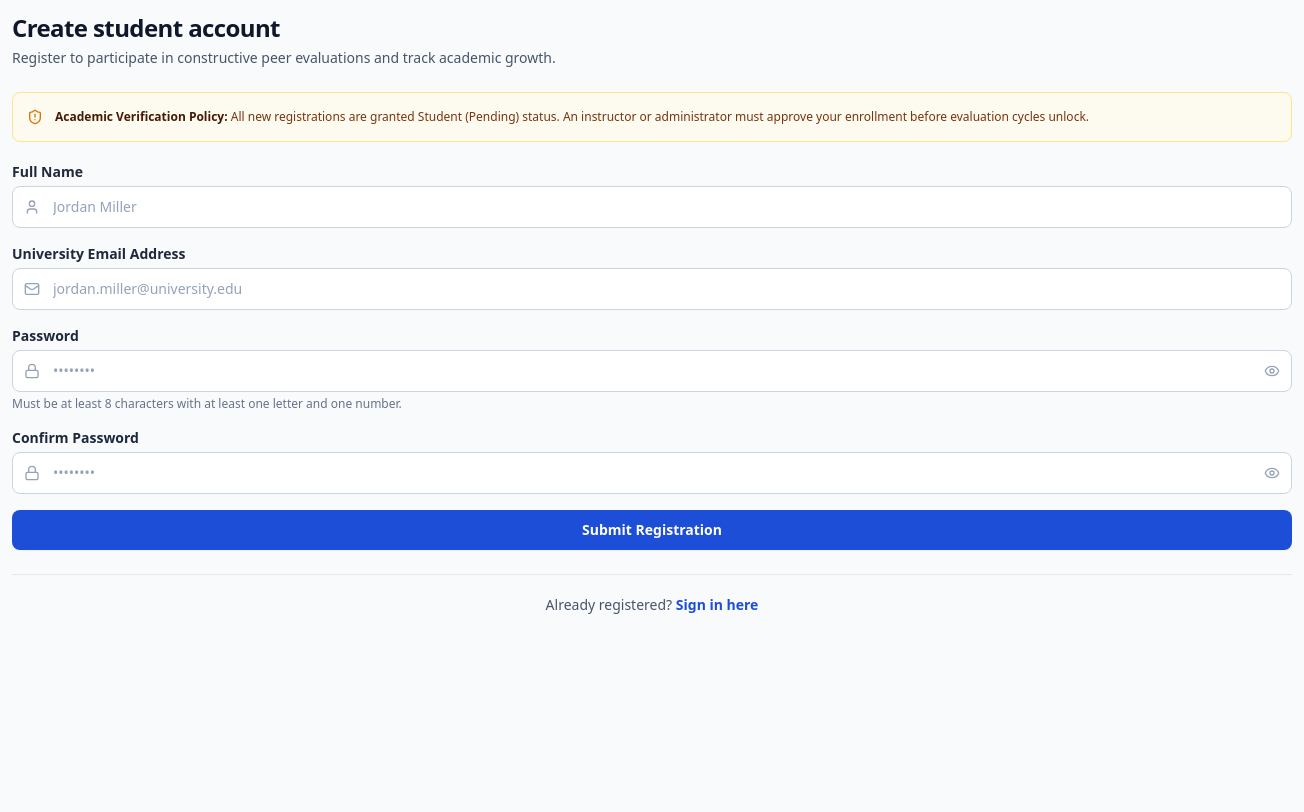
Test: Frontend Authentication & Membership Views (Stage 3) › 2. RegisterForm Component › displays validation error when password confirmation does not match
In the field labelled "Full Name": point(652, 206) left=12, top=186, right=1292, bottom=228, type "Sarah Connor"
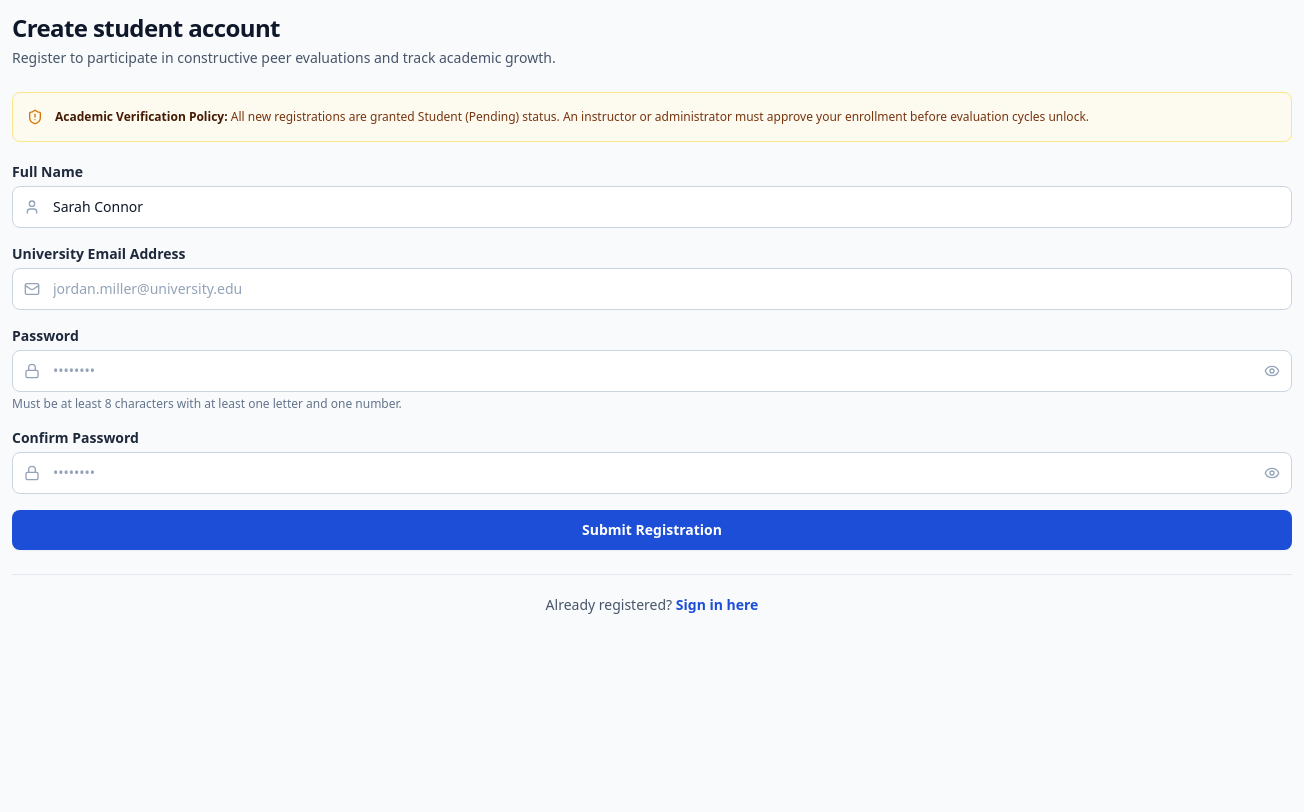
In the field labelled "University Email Address": point(652, 288) left=12, top=268, right=1292, bottom=310, type "sarah@university.edu"
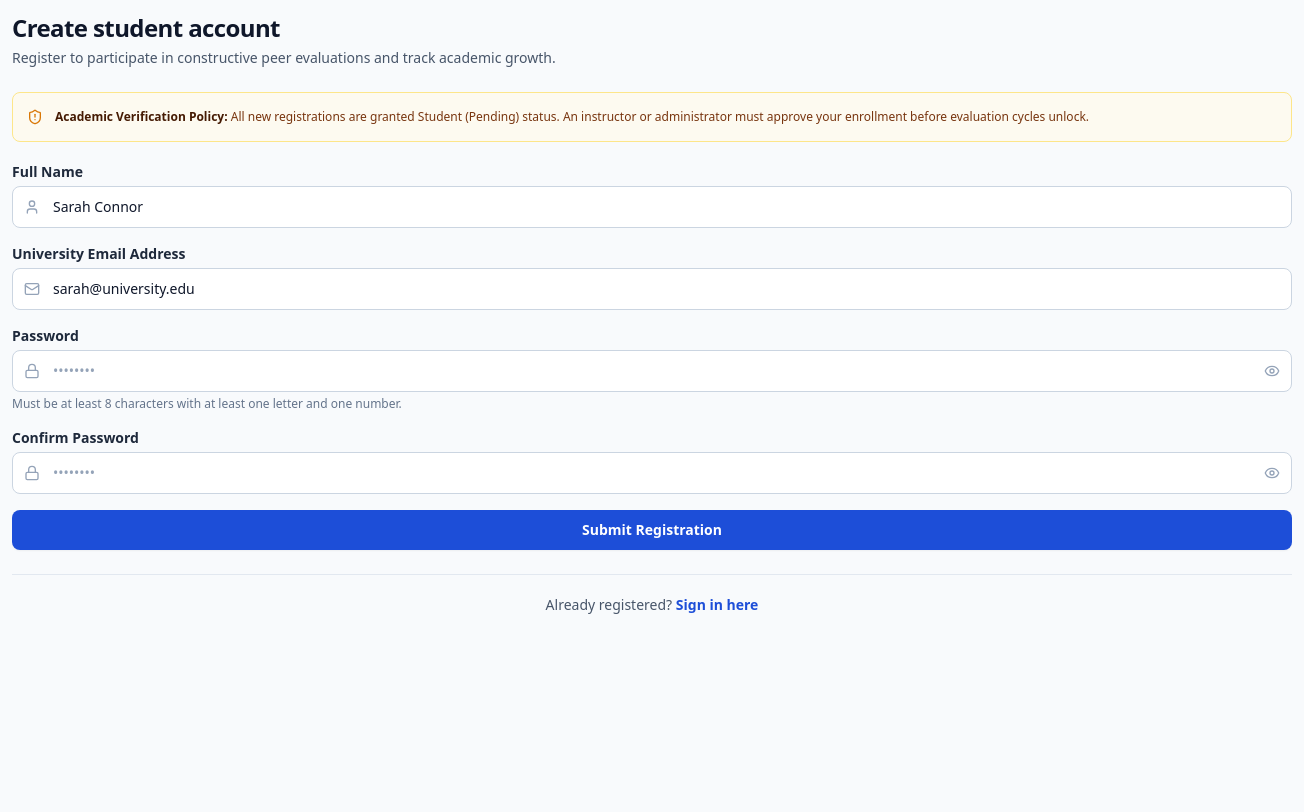
In the password field labelled "Password": point(652, 370) left=12, top=350, right=1292, bottom=392, type "Password123!"
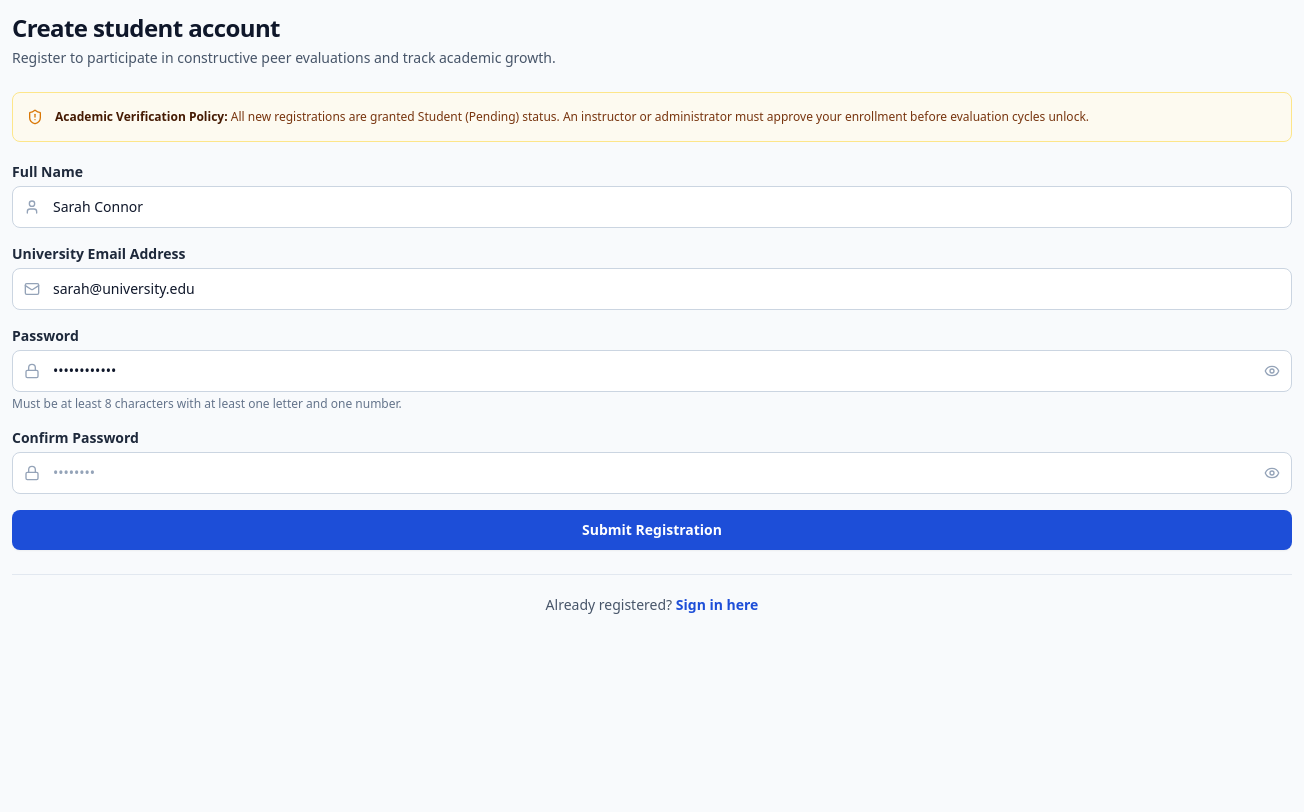
In the password field labelled "Confirm Password": point(652, 472) left=12, top=452, right=1292, bottom=494, type "MismatchPassword123!"
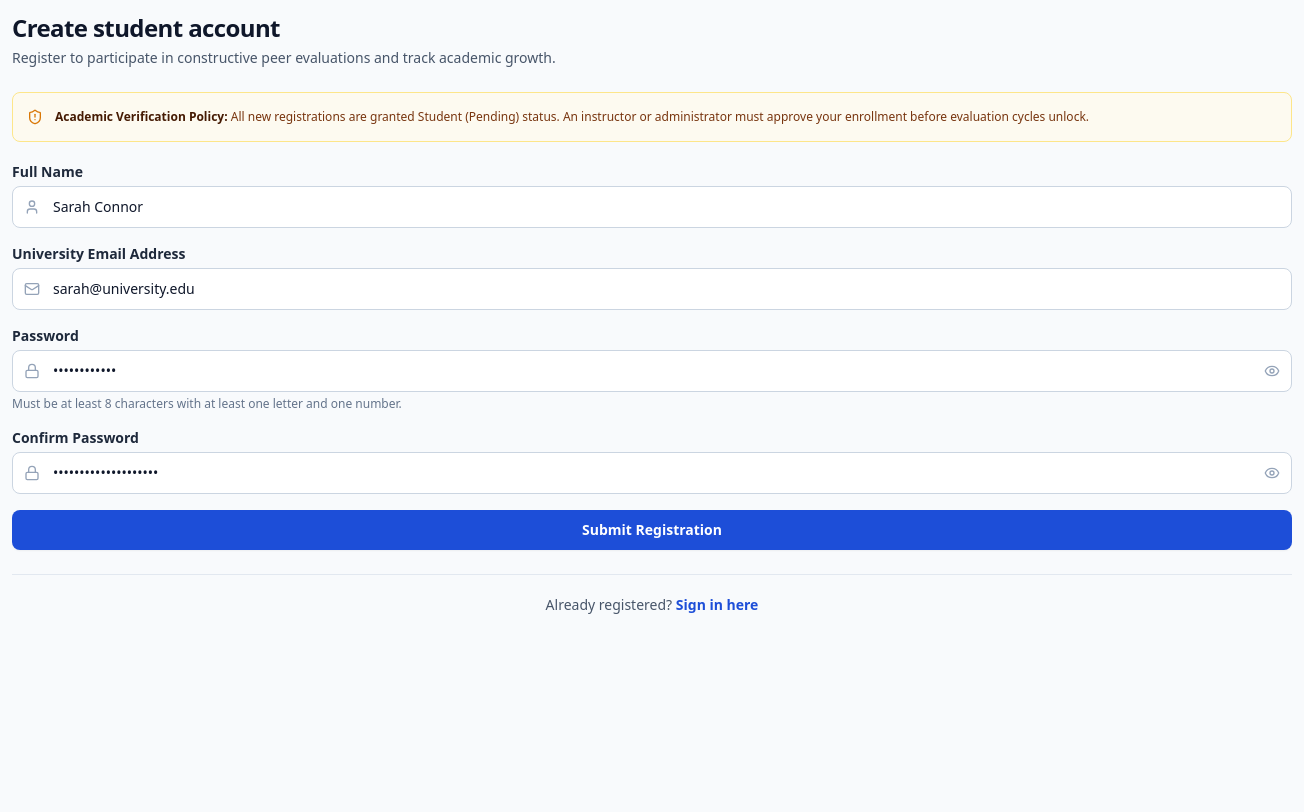
Click the button "Submit Registration": point(652, 530) left=12, top=510, right=1292, bottom=550
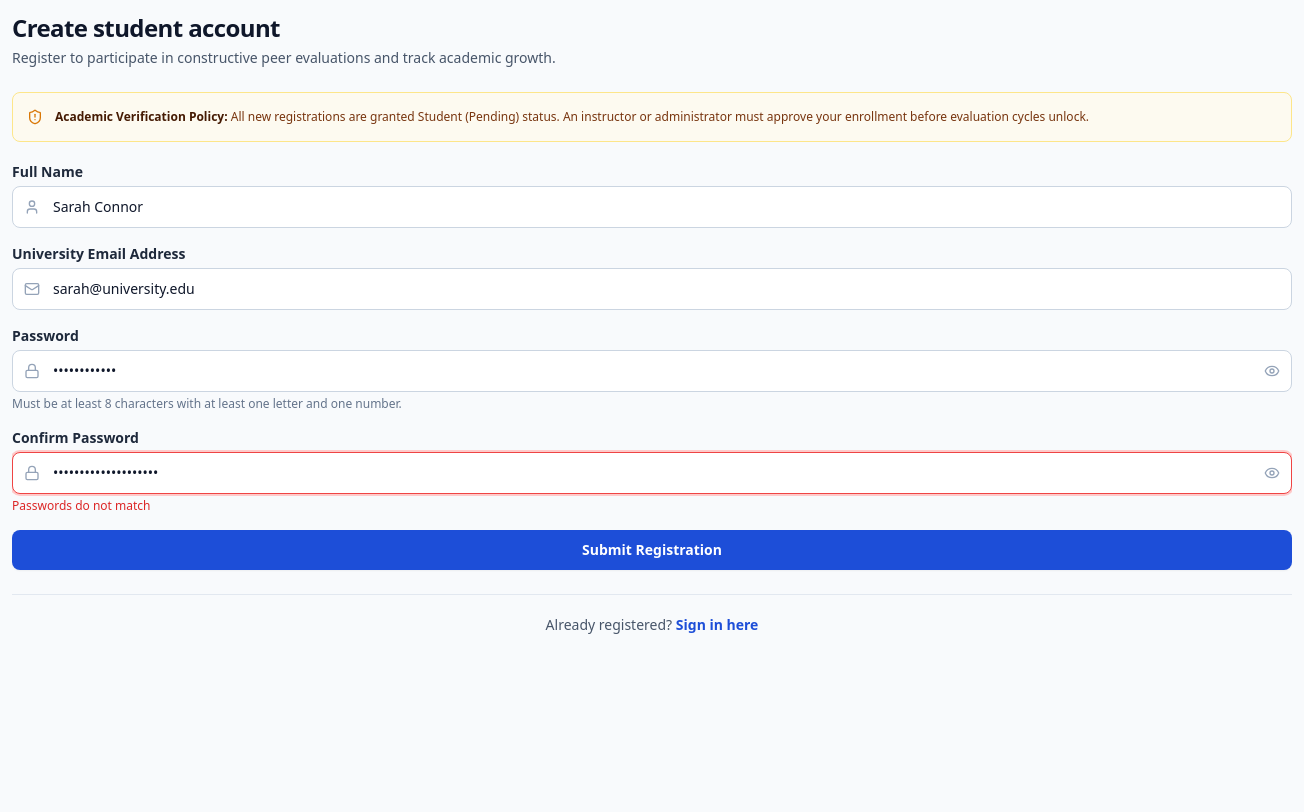
Expected: the text "Passwords do not match" is shown, left=12, top=496, right=150, bottom=514
